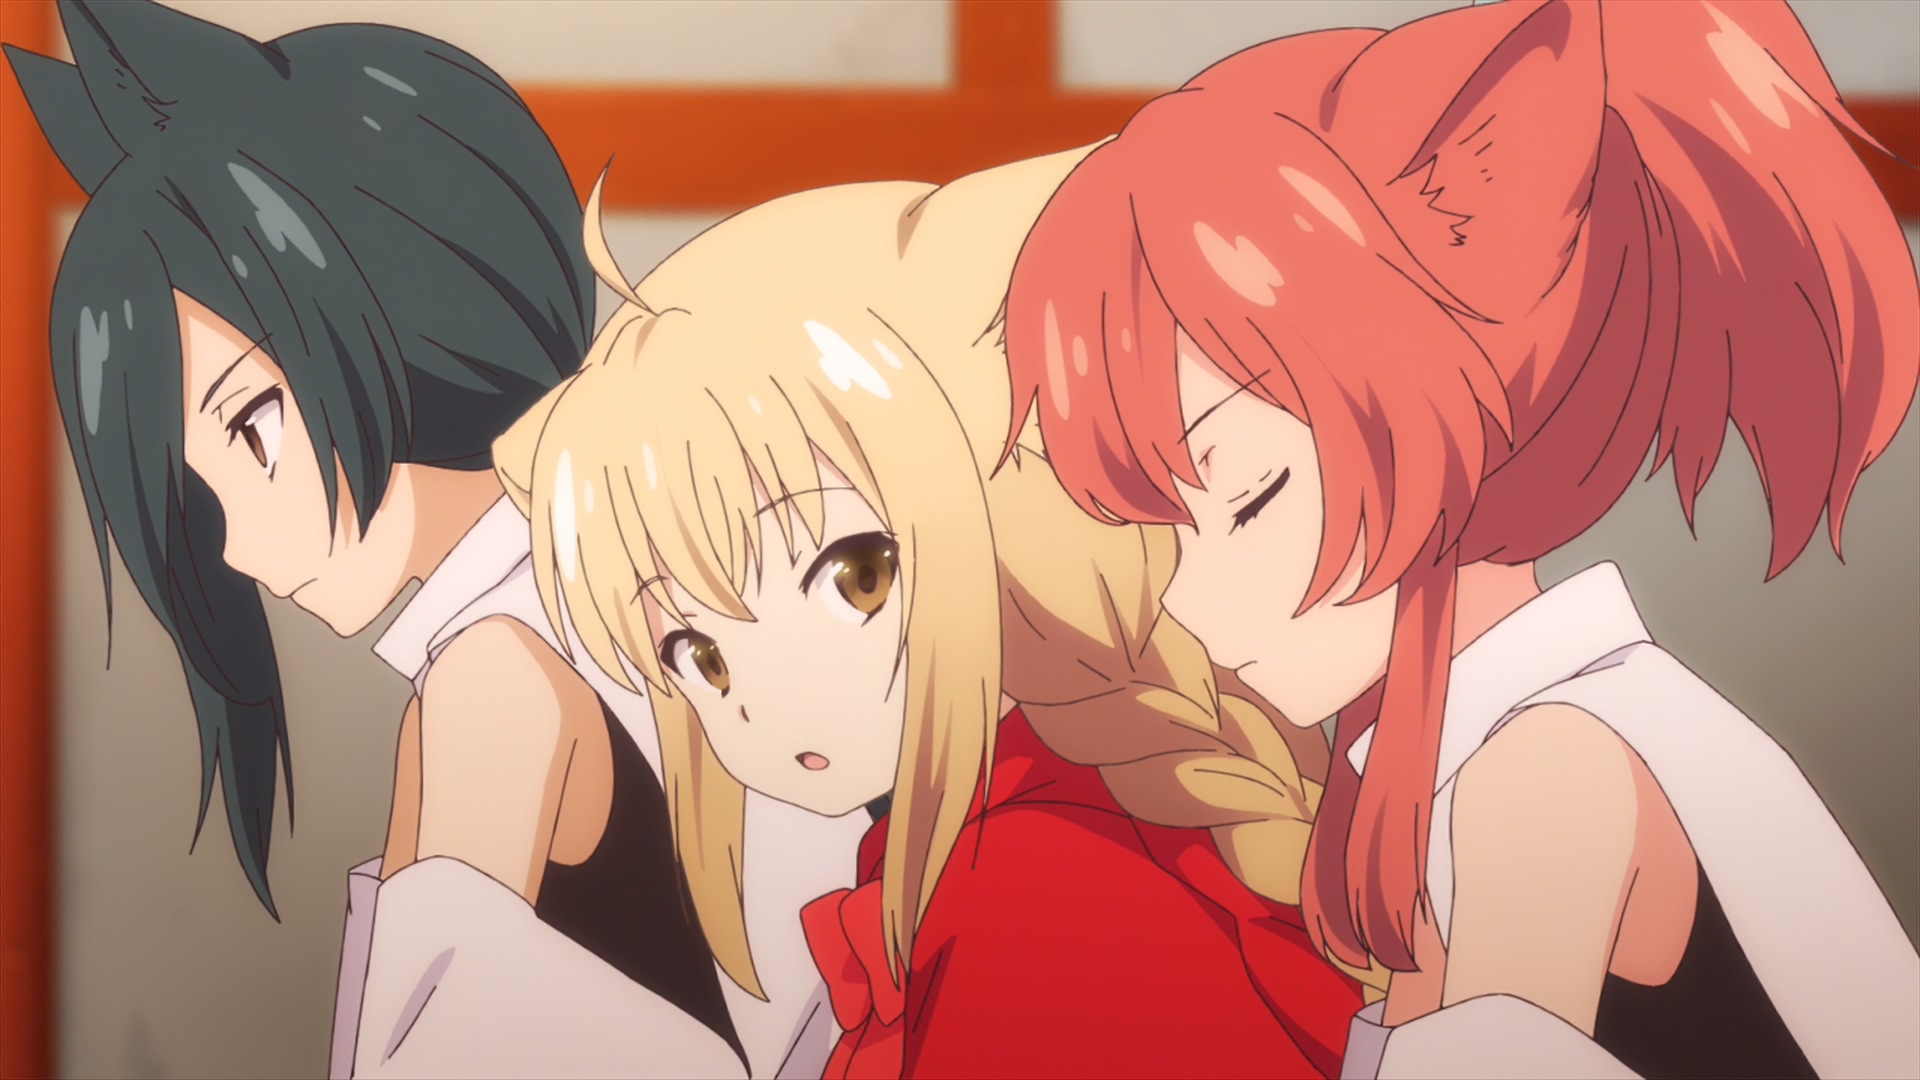其他: (1, 1, 889, 1080)
柚: (491, 132, 1393, 1080)
椿: (971, 1, 1920, 1080)
